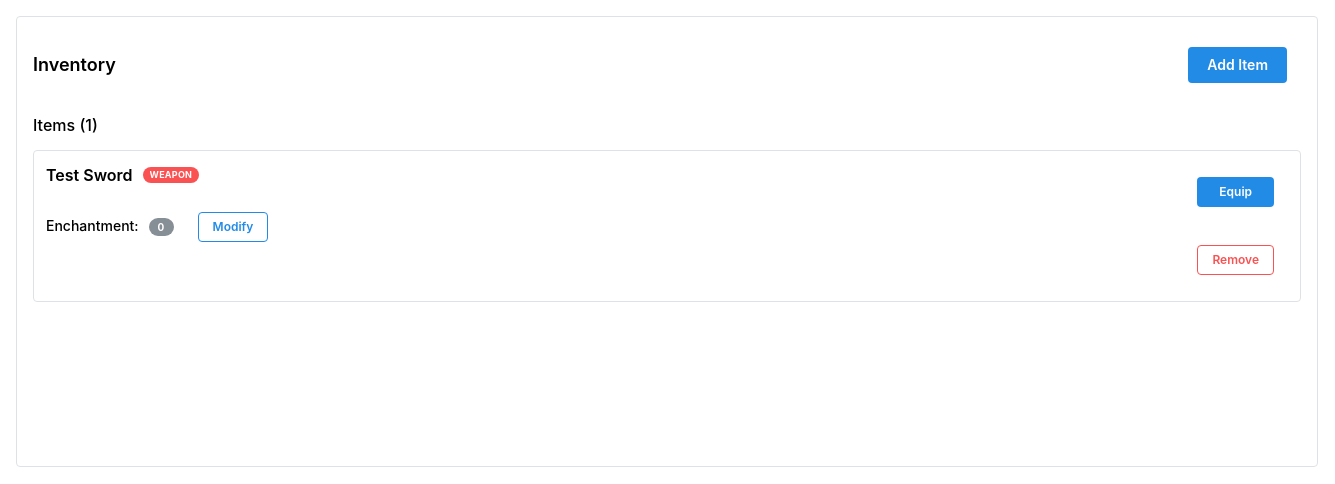
Test: InventoryViewer Interaction Tests › should handle item equipping without crashing
expect the text "Test Sword" is shown: met, box x1=46 y1=163 x2=133 y2=188
# Find and click the equip button
Click the button "Equip" at (1236, 192), box x1=1197 y1=177 x2=1274 y2=207
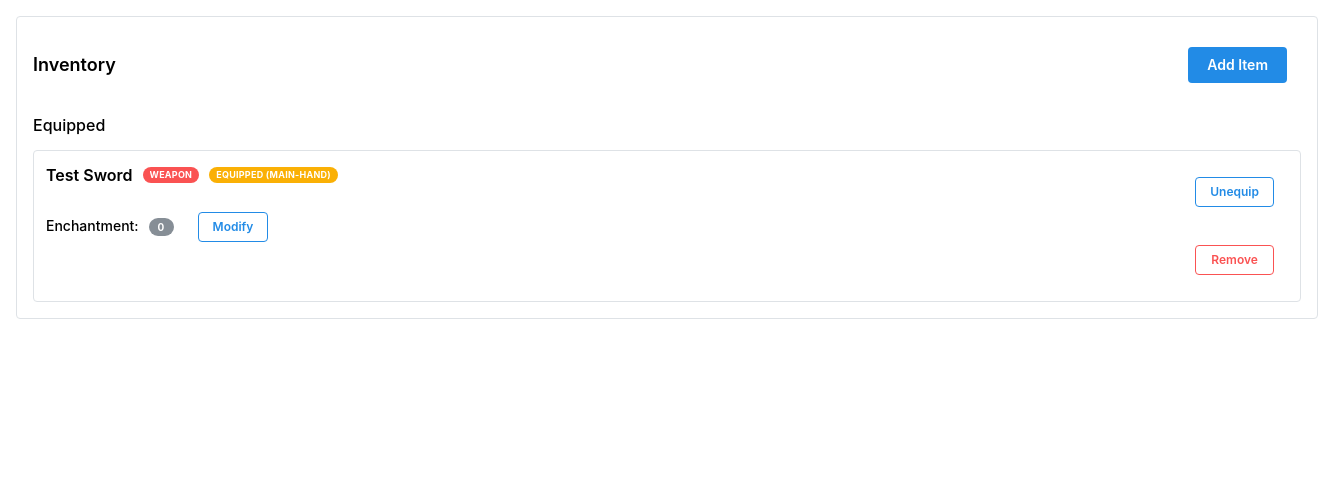
expect the button "Unequip" is shown: met, box x1=1210 y1=184 x2=1259 y2=199
